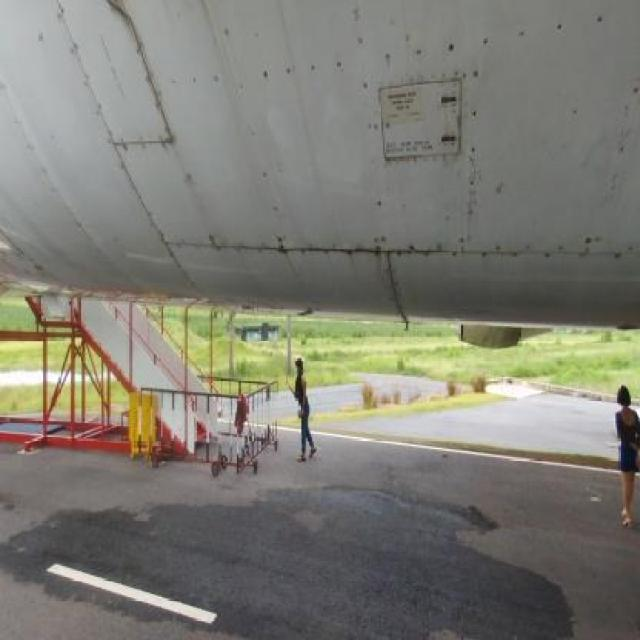Missing-Rivet: (254, 44, 486, 85), (411, 232, 634, 271), (65, 19, 118, 163), (508, 9, 630, 51), (620, 53, 638, 192)
Rust: (212, 230, 394, 316), (115, 1, 178, 133), (195, 6, 248, 122), (176, 150, 218, 244)
Scartch: (444, 87, 468, 167), (461, 156, 488, 227)
